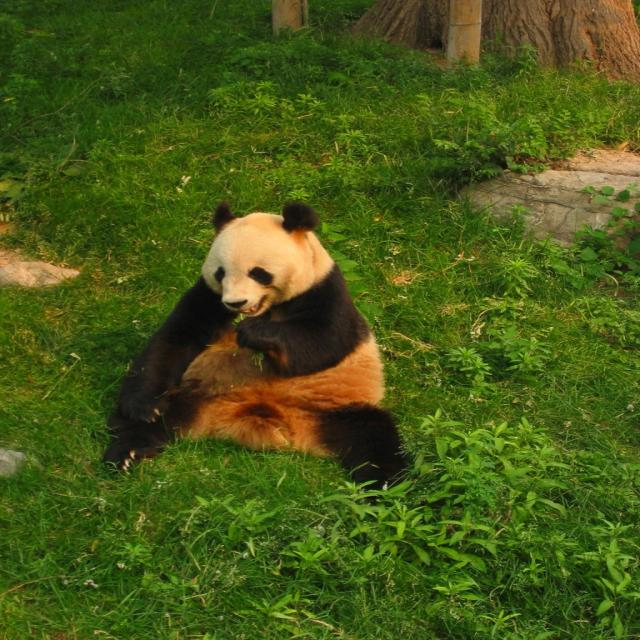panda: (110, 195, 396, 492)
